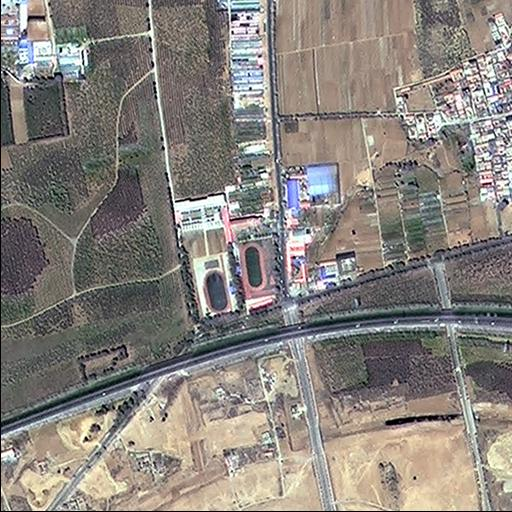school: (173, 191, 244, 330), (228, 212, 285, 320)
